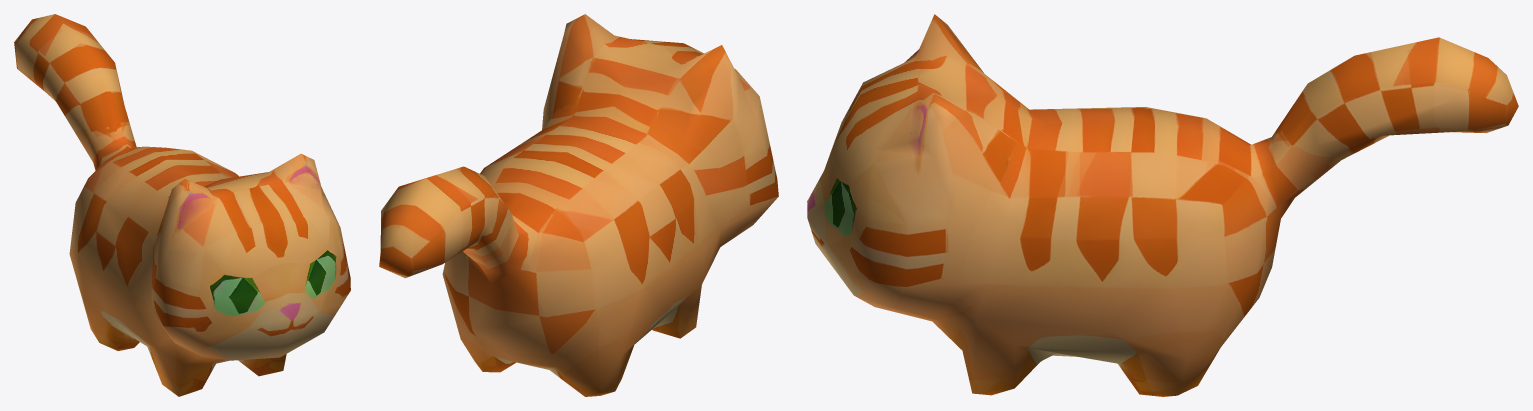
Rendered from tabby-cat-game-340.glb.
3 renders of one model, left to right at view 1: azimuth 30°, elevation 25°; view 2: azimuth 150°, elevation 25°; view 3: azimuth 270°, elevation 25°, orthographic. The views are drawn at different scales.
Parts seen in each view (by area): view 1: material; view 2: material; view 3: material.
Part boxes in pixels (box(x1,y1,x2,y2)): material: box(14, 14, 350, 396); material: box(379, 14, 778, 396); material: box(807, 14, 1518, 396).
Size of the model in its own units: 0.4591 by 0.5801 by 1.12.
Materials: 1 (1 with a texture image).
